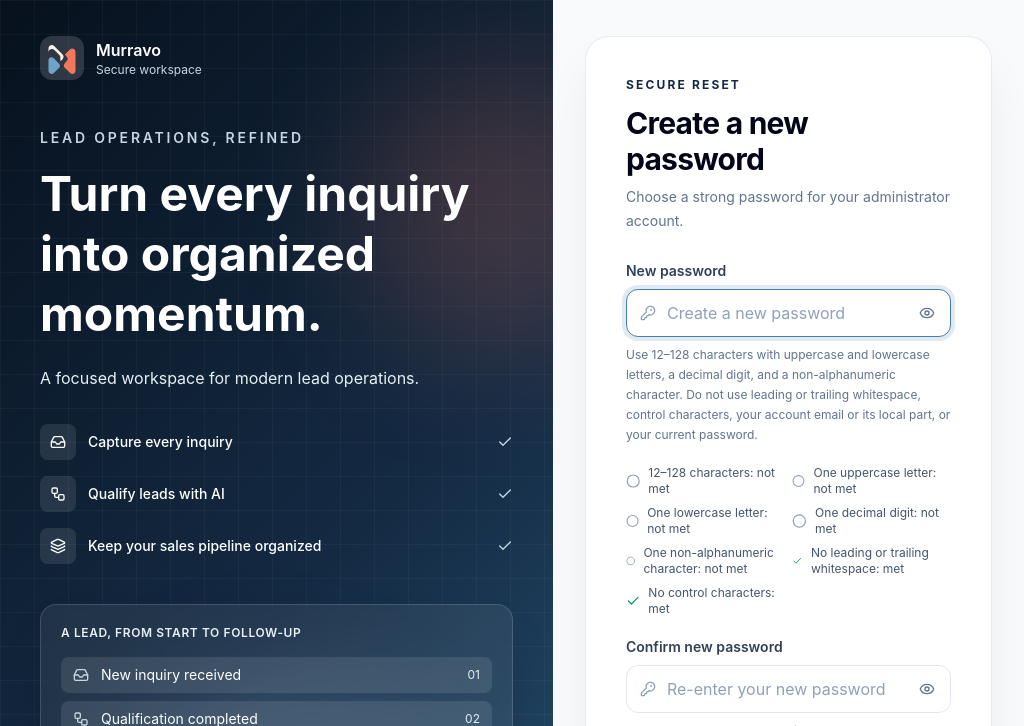
Test case: reset password token lifecycle › maps policy failures to a fixed safe outcome
In the password field labelled "New password": (788, 313) x1=626 y1=289 x2=951 y2=337, type "New-password-42!"
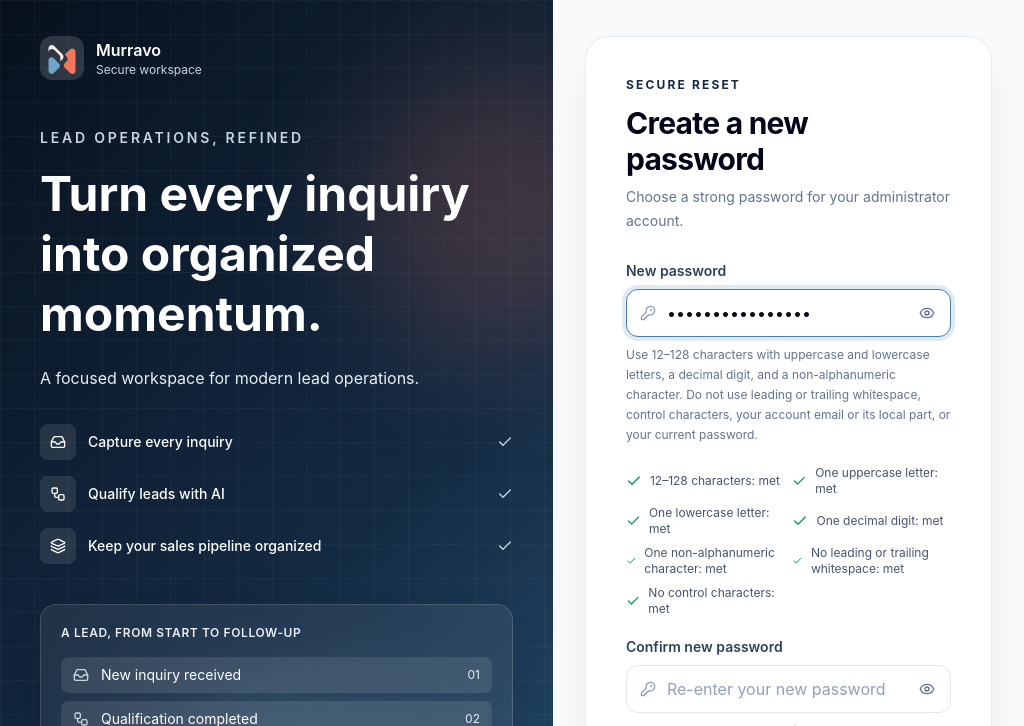
In the password field labelled "Confirm new password": (788, 689) x1=626 y1=665 x2=951 y2=713, type "New-password-42!"
(page scrolled)
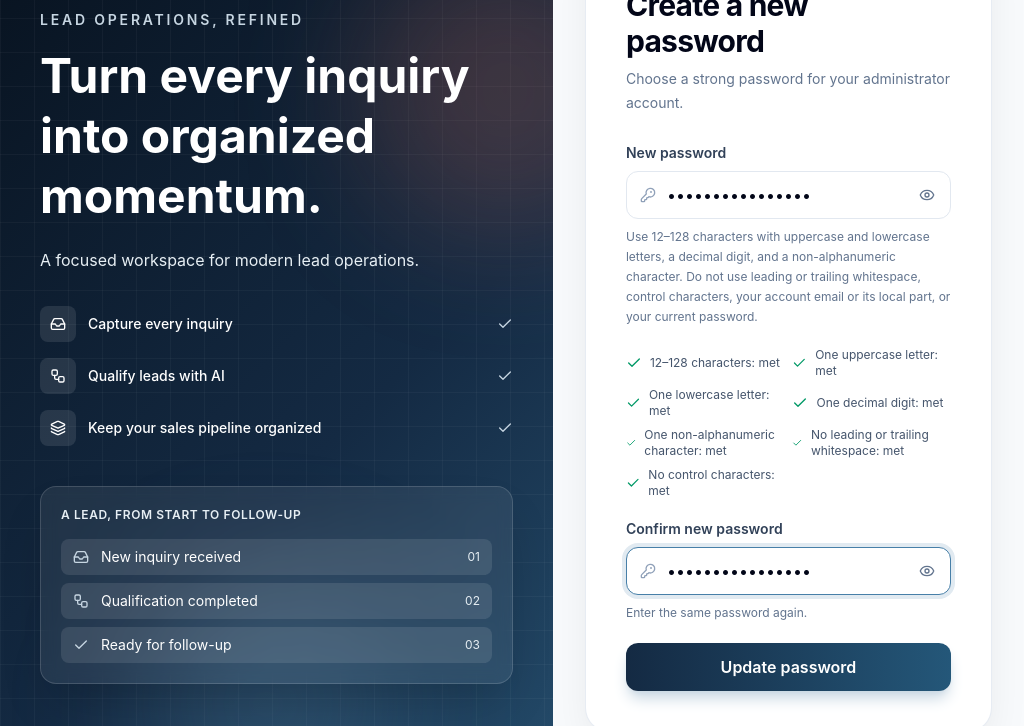
Click the button "Update password": (788, 667) x1=626 y1=643 x2=951 y2=691
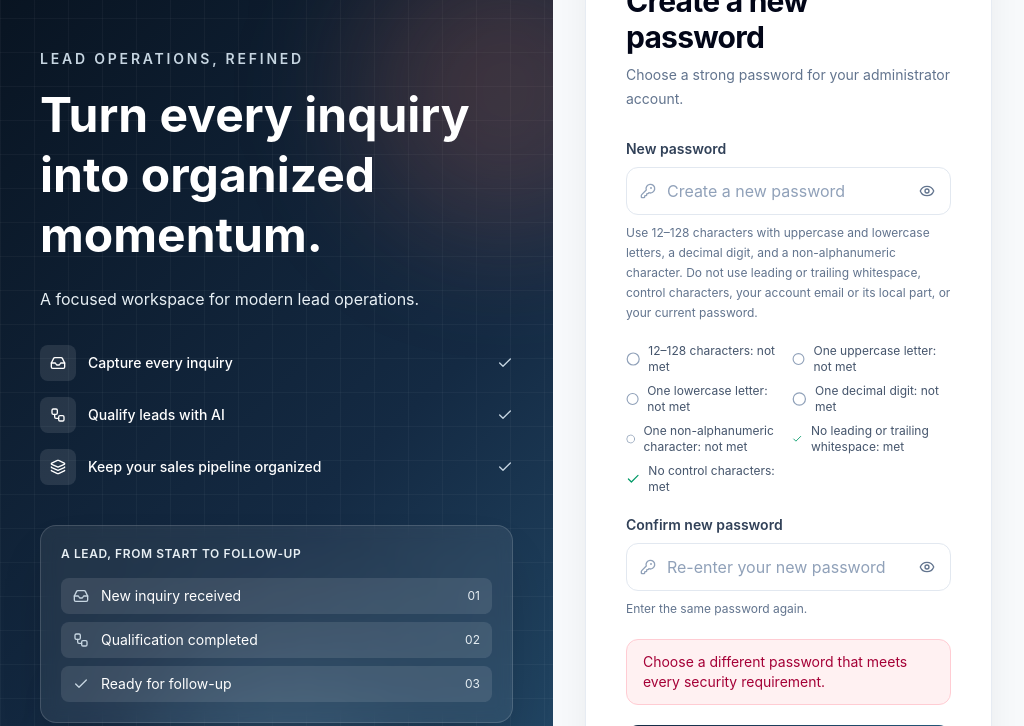
Expected: the message reads "Choose a different password that meets every security requirement.", x1=643 y1=653 x2=907 y2=690
